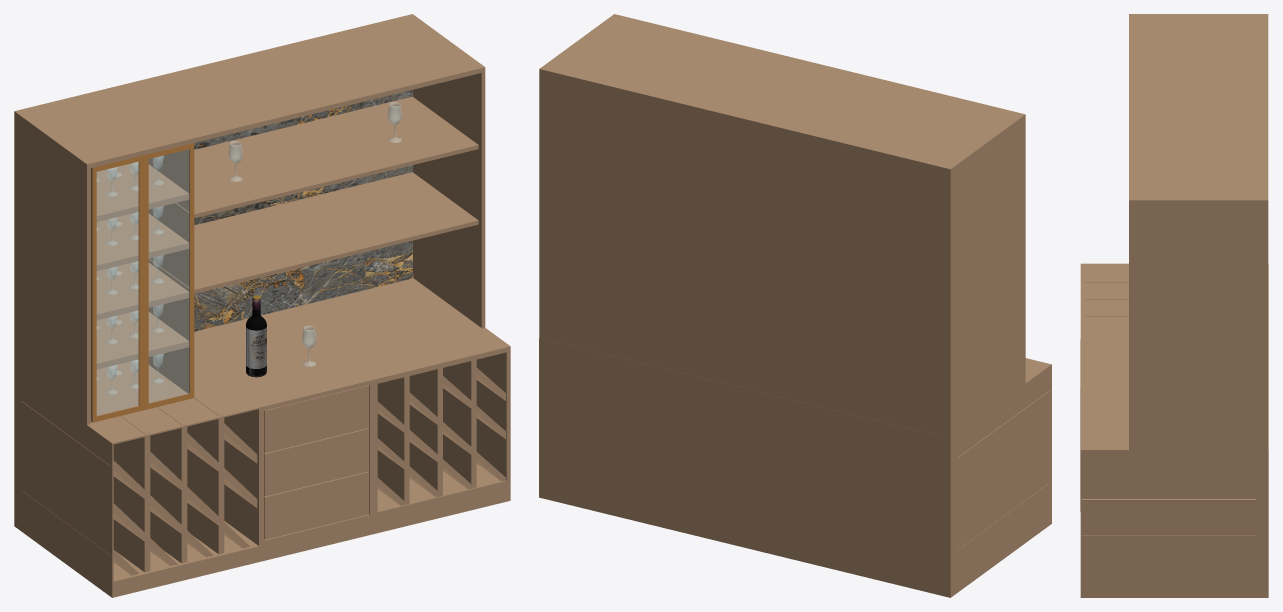
Rendered from closet.glb.
3 views of the same model, side by side, from view 1: azimuth 30°, elevation 25°; view 2: azimuth 150°, elevation 25°; view 3: azimuth 270°, elevation 25° (orthographic). The views are drawn at different scales.
Visible parts, largest first — view 1: Cube.001, Cube.010, Cube.012, Cube.011, Cube.017, Cube.013, Cube.015, Cube.014, Cube.003, Cube, Cube.002, 14042_750_mL_Wine_Bottle_r_v1_L3.002 (+7 smaller); view 2: Cube.001; view 3: Cube.001, Cube.005.
Boxes of the visible parts, box(x1,y1,x2,y2) form: Cube.001: box(14, 14, 510, 597); Cube.010: box(91, 143, 194, 422); Cube.012: box(264, 385, 369, 539); Cube.011: box(96, 162, 189, 369); Cube.017: box(194, 89, 412, 331); Cube.013: box(113, 414, 150, 572); Cube.015: box(187, 392, 224, 554); Cube.014: box(150, 405, 187, 563); Cube.003: box(443, 359, 476, 488); Cube: box(377, 376, 409, 504); Cube.002: box(409, 368, 442, 496); 14042_750_mL_Wine_Bottle_r_v1_L3.002: box(246, 295, 266, 377); Cube.001: box(539, 14, 1051, 597); Cube.001: box(1080, 14, 1268, 597); Cube.005: box(1081, 499, 1256, 500).
Bounding box in the file's own units: 4.7 × 4.67 × 2.
Materials: 6 (2 with a texture image).
